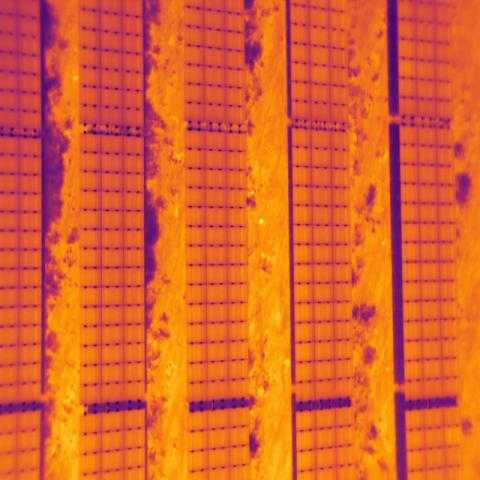fault: (444, 425, 460, 448)
